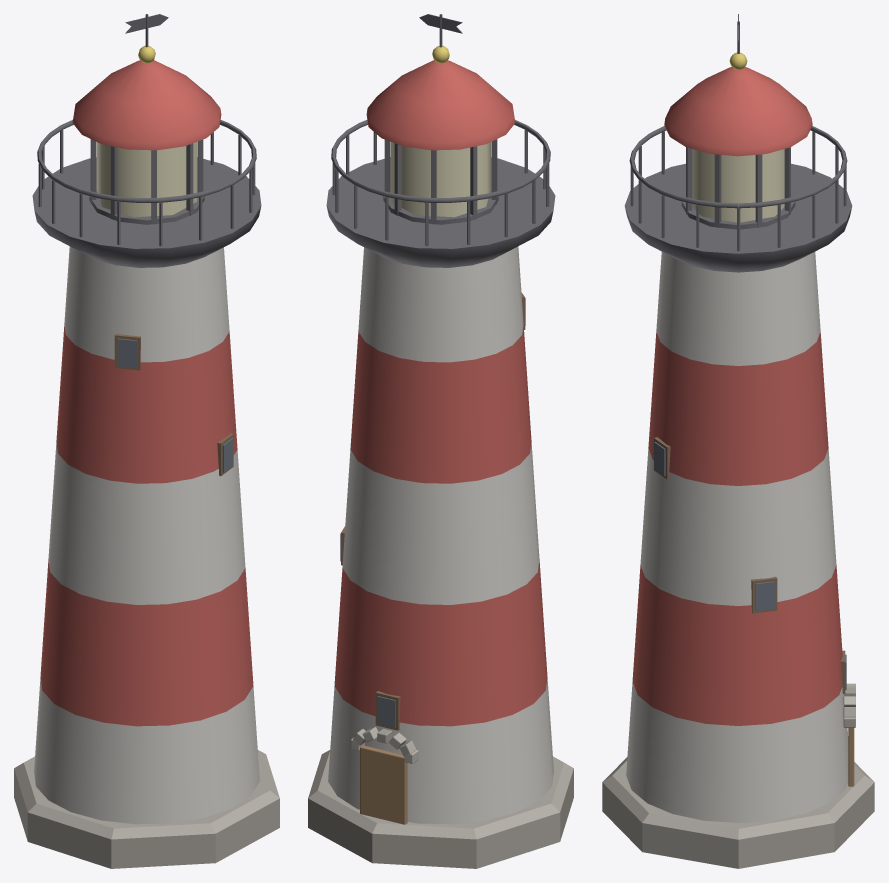
The model's file is lighthouse.glb.
3 views of the same model, side by side, from view 1: azimuth 30°, elevation 25°; view 2: azimuth 150°, elevation 25°; view 3: azimuth 270°, elevation 25° (orthographic).
Visible parts, largest first — view 1: lighthouse, lighthouse_glass; view 2: lighthouse, lighthouse_glass; view 3: lighthouse, lighthouse_glass.
Part boxes in pixels (<box>): lighthouse: <box>14,14,279,868</box>; lighthouse_glass: <box>96,142,197,217</box>; lighthouse: <box>308,14,573,868</box>; lighthouse_glass: <box>390,142,491,217</box>; lighthouse: <box>602,14,874,868</box>; lighthouse_glass: <box>692,149,784,222</box>.
Size of the model in its own units: 5.5 by 17.6 by 5.5.
